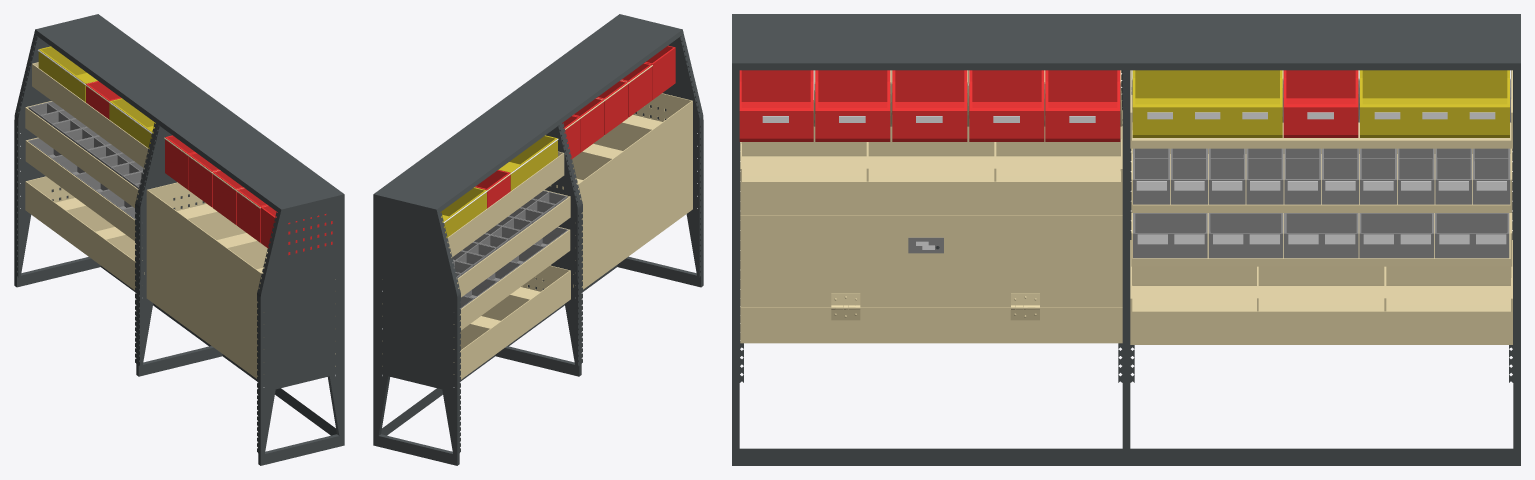
Rendered from BuildersKit–LongBays.fbx.
3 views of the same model, side by side, from view 1: azimuth 30°, elevation 25°; view 2: azimuth 150°, elevation 25°; view 3: azimuth 270°, elevation 25° (orthographic). The views are drawn at different scales.
Visible parts, largest first — view 1: Steel, Cream_Paint, RED_Plastic, Gray_Plastic, Yellow; view 2: Steel, Cream_Paint, RED_Plastic, Gray_Plastic, Yellow; view 3: Cream_Paint, Steel, Gray_Plastic, RED_Plastic, Yellow, White.
Part boxes in pixels (x1,y1,x2,y2): Steel: (14, 14, 344, 465); Cream_Paint: (25, 62, 335, 378); RED_Plastic: (86, 81, 332, 255); Gray_Plastic: (28, 101, 144, 219); Yellow: (38, 46, 155, 148); Steel: (373, 14, 703, 465); Cream_Paint: (382, 65, 692, 379); RED_Plastic: (475, 45, 675, 208); Gray_Plastic: (451, 190, 568, 312); Yellow: (440, 135, 557, 237); Cream_Paint: (740, 70, 1512, 344); Steel: (732, 14, 1520, 465); Gray_Plastic: (908, 148, 1510, 258); RED_Plastic: (739, 70, 1358, 141); Yellow: (1132, 70, 1509, 137); White: (762, 70, 1511, 249).
Bounding box in the file's own units: 414 × 1160 × 2060.
